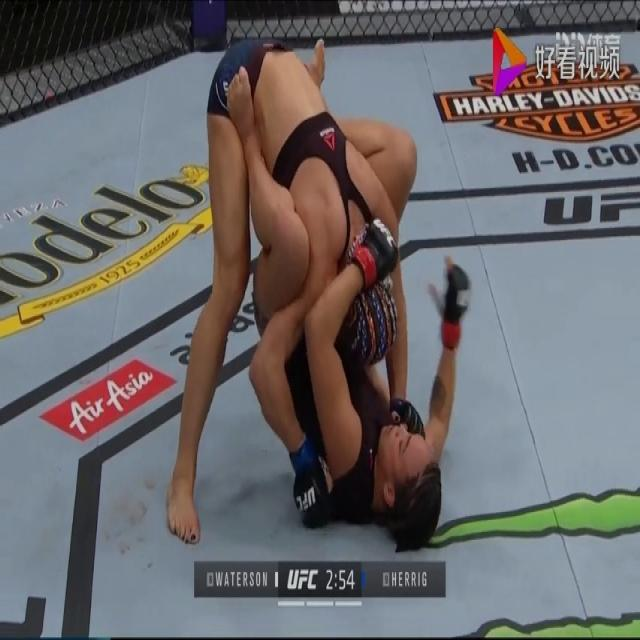fight: (156, 22, 470, 558)
